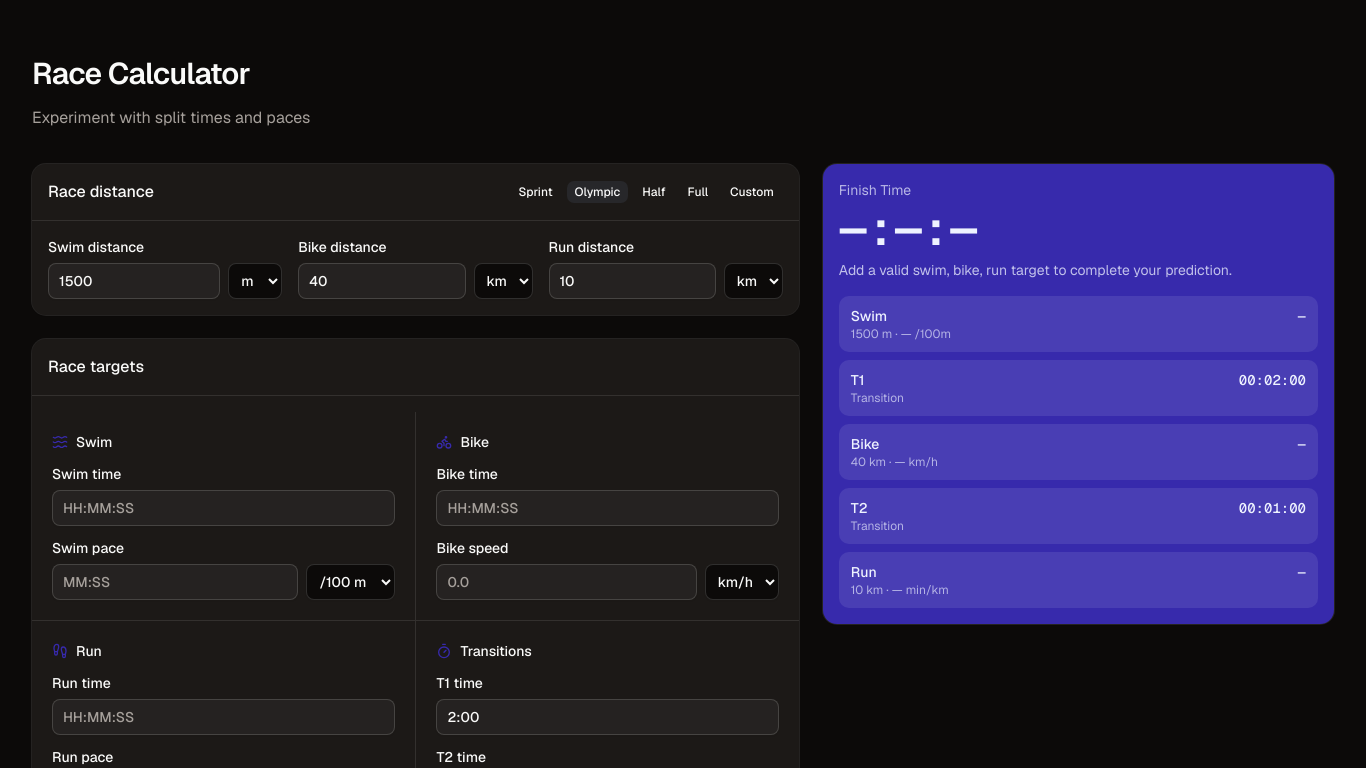
Test: RaceTimeCalculator › calculates live from mixed time, speed, and pace targets
Type "30:00" into the field labelled "Swim time" at (224, 508), box [52, 490, 395, 526]
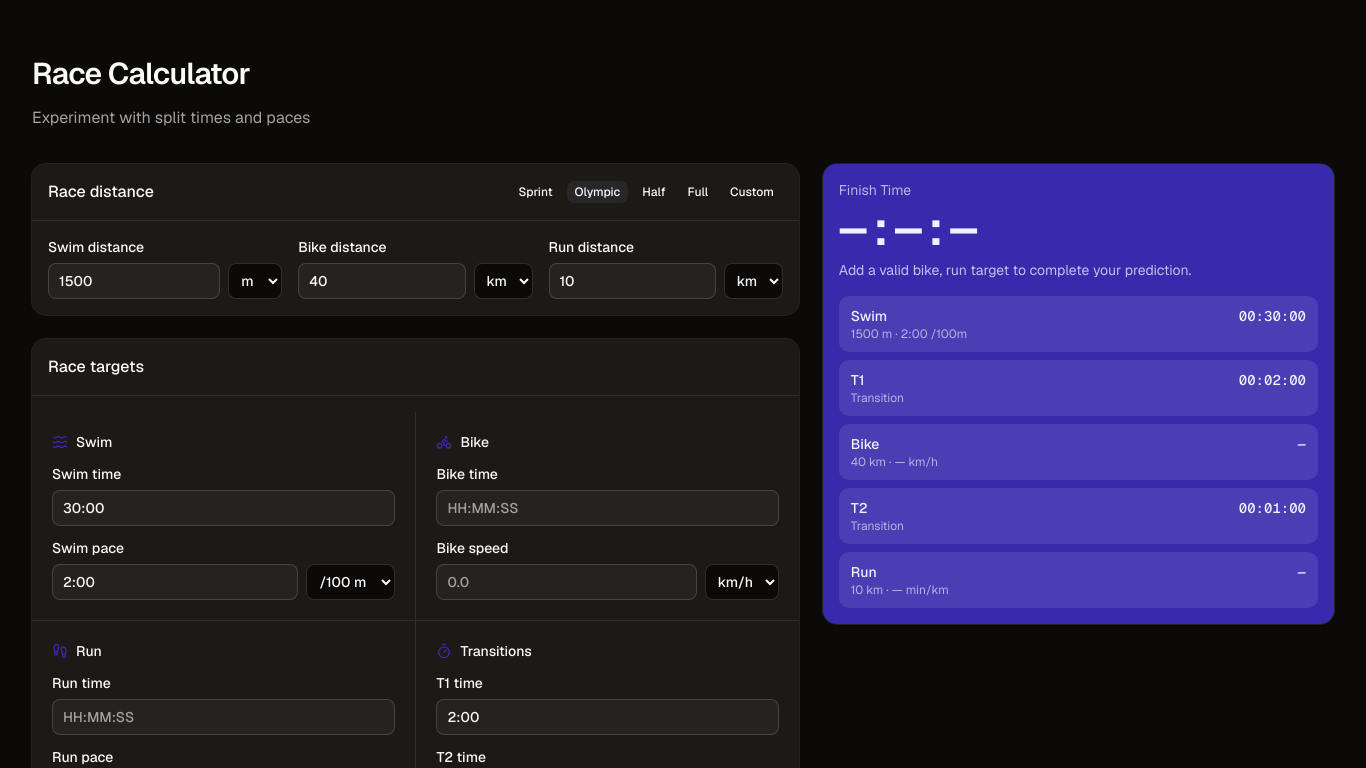
Now the field labelled "Swim pace" holds "2:00", box [52, 564, 298, 600]
Type "20" into the field labelled "Bike speed" at (567, 582), box [436, 564, 697, 600]
(page scrolled)
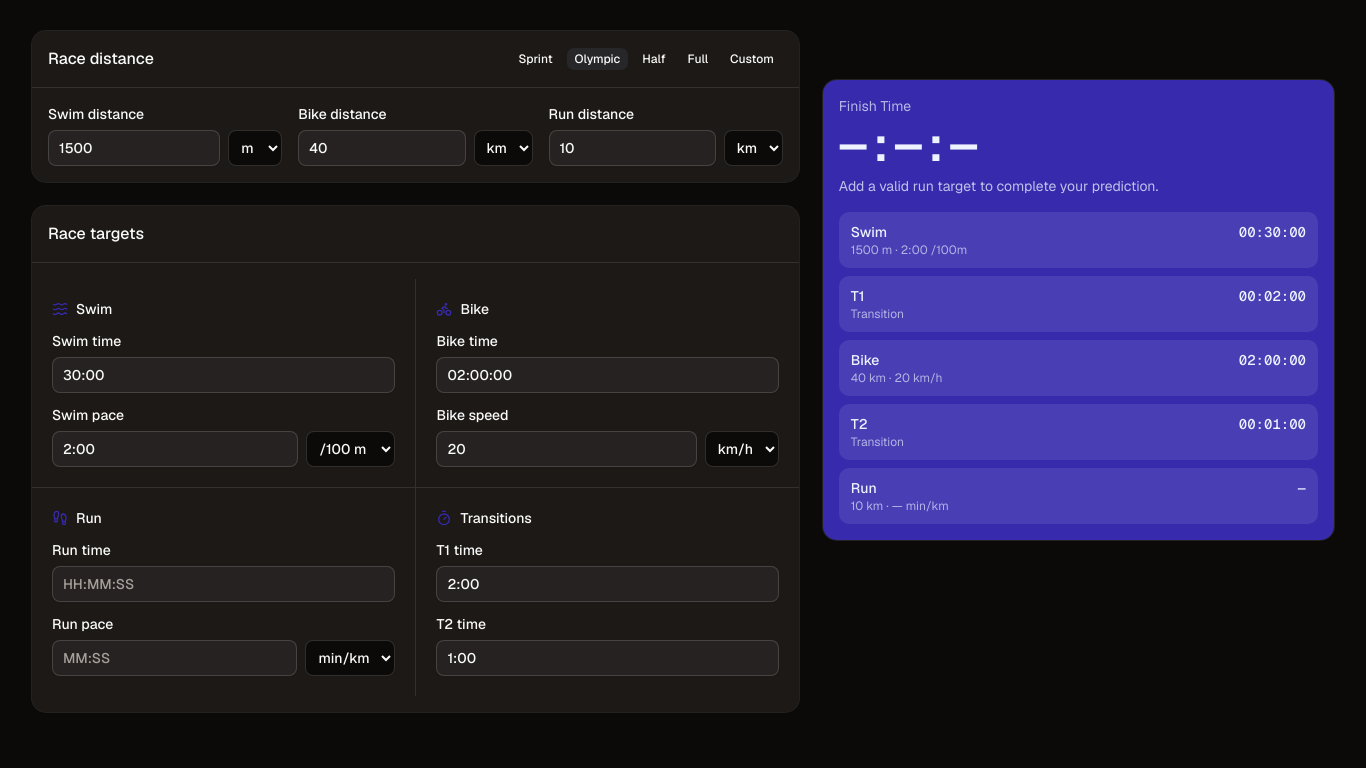
Now the field labelled "Bike time" holds "02:00:00", box [436, 357, 779, 393]
Type "5:00" into the field labelled "Run pace" at (175, 658), box [52, 640, 297, 676]
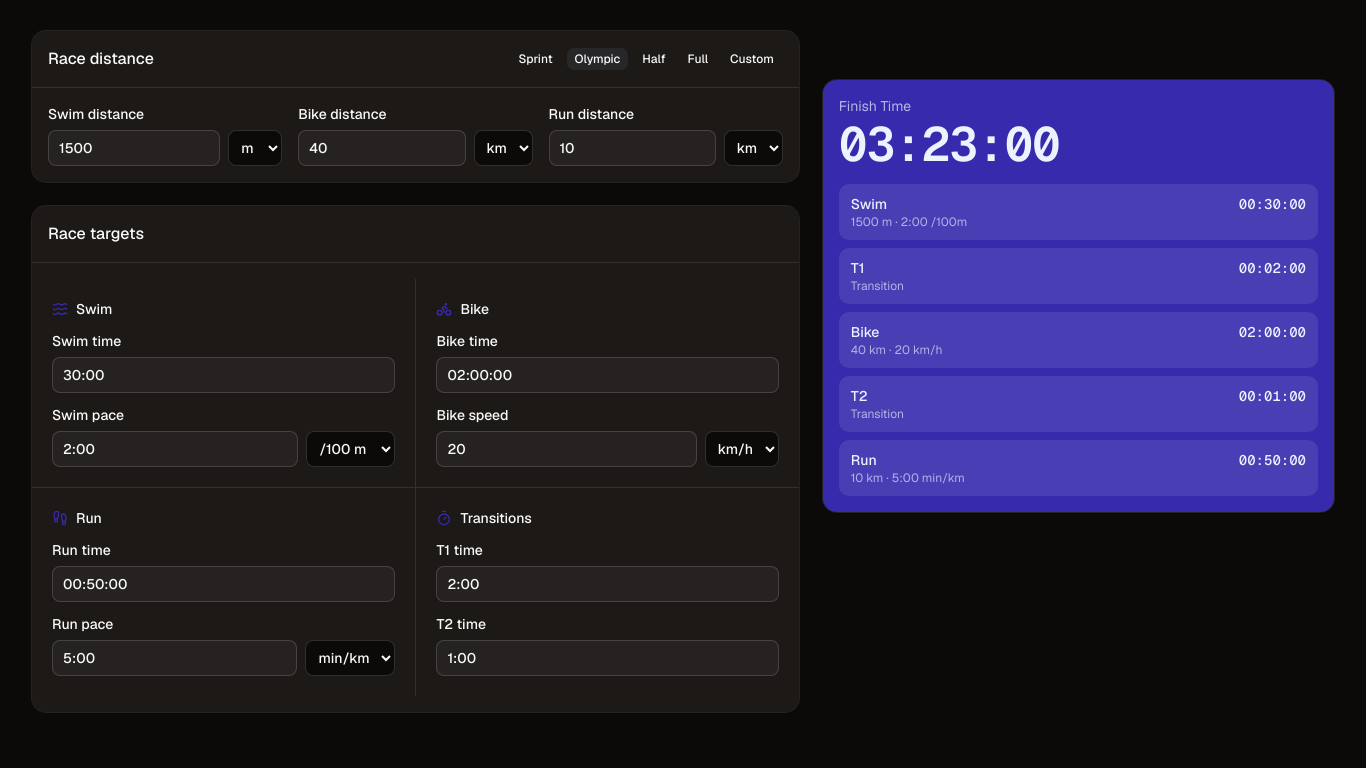
Now the field labelled "Run time" holds "00:50:00", box [52, 566, 395, 602]
Now the text named "Total race time" reads "03:23:00", box [839, 113, 1060, 175]
